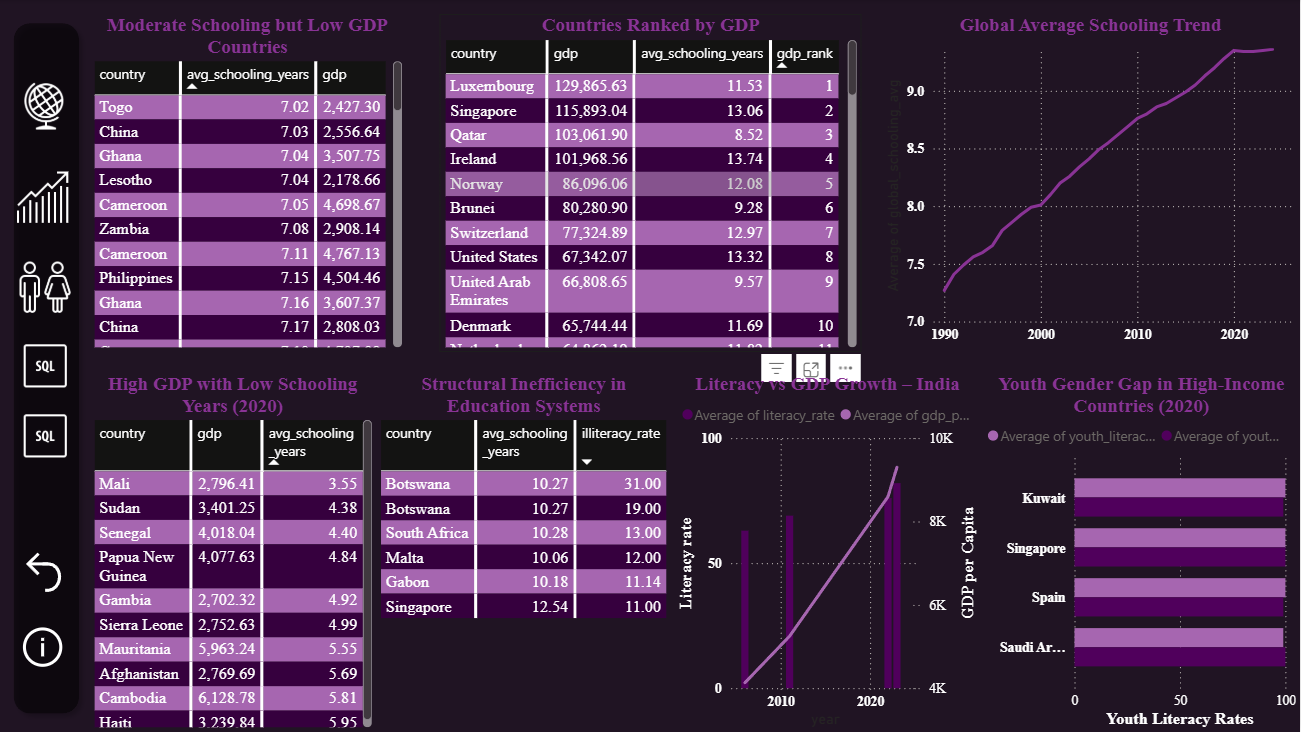

What the dashboard file says about the page in this screenshot:
{"tool":"powerbi","page":{"name":"GDP & Schooling Insights","canvas":[1280,720],"ordinal":4},"visuals":[{"type":"shape","box":[7.4,14.7,82.2,695.7],"z":0},{"type":"image","box":[20.9,79.8,50,50],"z":1000},{"type":"image","box":[22.1,257.7,50.3,50.3],"z":2000},{"type":"image","box":[19.6,169.3,50.3,50.3],"z":3000},{"type":"actionButton","box":[19.6,611,50.3,50.3],"z":4000},{"type":"actionButton","box":[20.9,537.4,50.3,50.3],"z":5000},{"type":"tableEx","title":"Moderate Schooling but Low GDP Countries","fields":{"Values":["Q7.country","Q7.avg_schooling_years","Q7.gdp"]},"box":[89.6,14.7,312.9,332.5],"z":6000},{"type":"tableEx","title":"Countries Ranked by GDP","fields":{"Values":["Q8.country","Q8.gdp","Q8.avg_schooling_years","Q8.gdp_rank"]},"box":[434.4,14.7,414.7,332.5],"z":7000},{"type":"lineChart","title":"Global Average Schooling Trend","fields":{"Category":["Q9.year"],"Y":["Avg(Q9.global_schooling_avg)"]},"box":[865.9,15.1,414.4,332.1],"z":8000},{"type":"tableEx","title":"High GDP with Low Schooling Years (2020)","fields":{"Values":["Q10.country","Q10.gdp","Q10.avg_schooling_years"]},"box":[89.6,366.9,283.4,353.4],"z":9000},{"type":"tableEx","title":"Structural Inefficiency in Education Systems","fields":{"Values":["Q11.country","Q11.avg_schooling_years","Q11.illiteracy_rate"]},"box":[370.6,366.9,293.3,353.4],"z":10000},{"type":"lineStackedColumnComboChart","title":"Literacy vs GDP Growth – India","fields":{"Category":["Q12.year"],"Y":["Avg(Q12.literacy_rate)"],"Y2":["Avg(Q12.gdp_per_capita)"]},"box":[663.8,366.9,303.1,353.4],"z":11000},{"type":"clusteredBarChart","title":"Youth Gender Gap in High-Income Countries (2020)","fields":{"Category":["Q13.country"],"Y":["Avg(Q13.youth_literacy_rate_F)","Avg(Q13.youth_literacy_rate_M)"]},"box":[967,367,313,353],"z":12000},{"type":"image","box":[22.1,335,50.3,50.3],"z":12001},{"type":"image","box":[22.1,403.7,50.3,50.3],"z":12002}]}

Visuals, with their boxes on the page's 1280x720 design canvas (x1, y1, x2, y2). These are canvas units, not pixel positions in the 1301x732 screenshot, which may show the page scaled, cropped or inside an application window:
shape: x1=7 y1=15 x2=90 y2=710
image: x1=21 y1=80 x2=71 y2=130
image: x1=22 y1=258 x2=72 y2=308
image: x1=20 y1=169 x2=70 y2=220
actionButton: x1=20 y1=611 x2=70 y2=661
actionButton: x1=21 y1=537 x2=71 y2=588
"Moderate Schooling but Low GDP Countries" tableEx: x1=90 y1=15 x2=402 y2=347
"Countries Ranked by GDP" tableEx: x1=434 y1=15 x2=849 y2=347
"Global Average Schooling Trend" lineChart: x1=866 y1=15 x2=1280 y2=347
"High GDP with Low Schooling Years (2020)" tableEx: x1=90 y1=367 x2=373 y2=720
"Structural Inefficiency in Education Systems" tableEx: x1=371 y1=367 x2=664 y2=720
"Literacy vs GDP Growth – India" lineStackedColumnComboChart: x1=664 y1=367 x2=967 y2=720
"Youth Gender Gap in High-Income Countries (2020)" clusteredBarChart: x1=967 y1=367 x2=1280 y2=720
image: x1=22 y1=335 x2=72 y2=385
image: x1=22 y1=404 x2=72 y2=454
